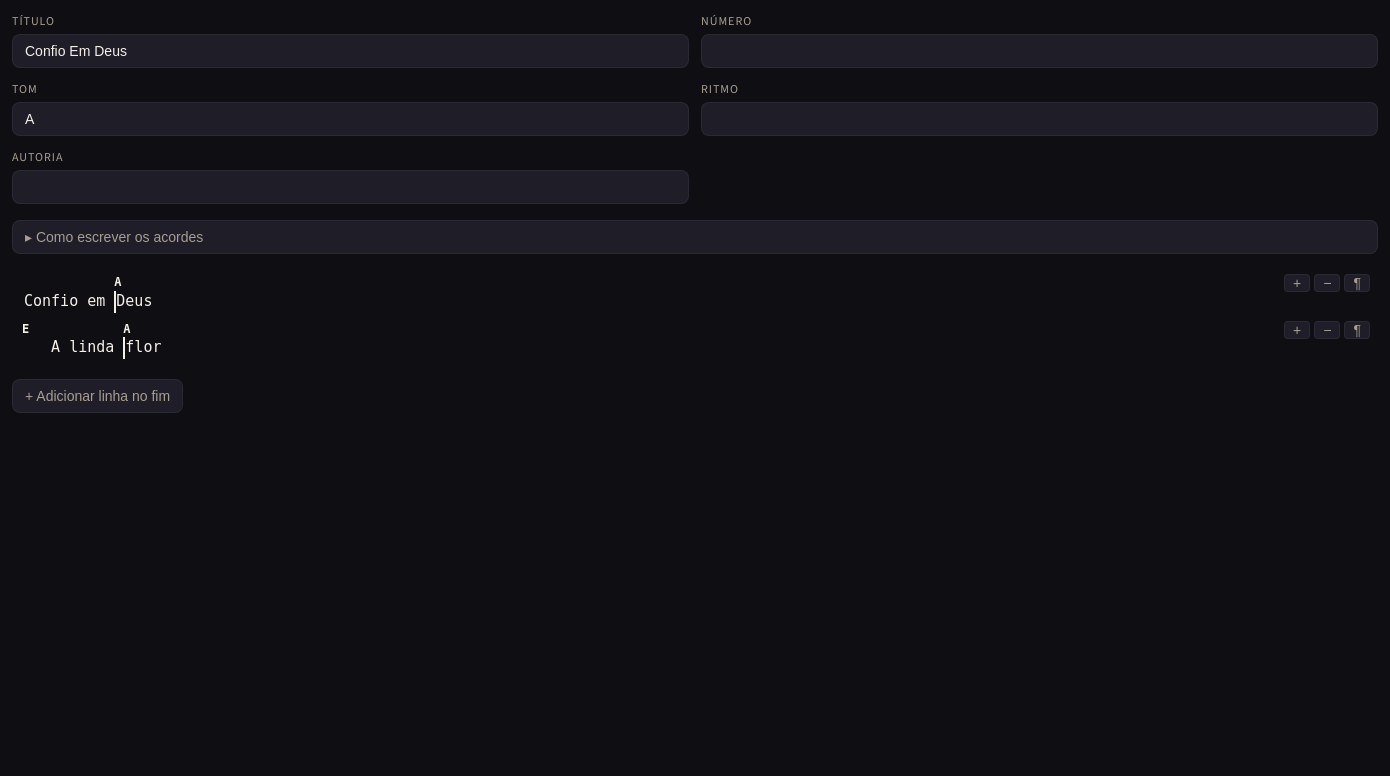
Test: inserir símbolo do painel de dicas › substitui a seleção, em vez de empurrá-la para o lado
The width and height of the screenshot is (1390, 776).
Step 1. Click the text "Confio em" → (68,302), box x1=22 y1=291 x2=114 y2=313
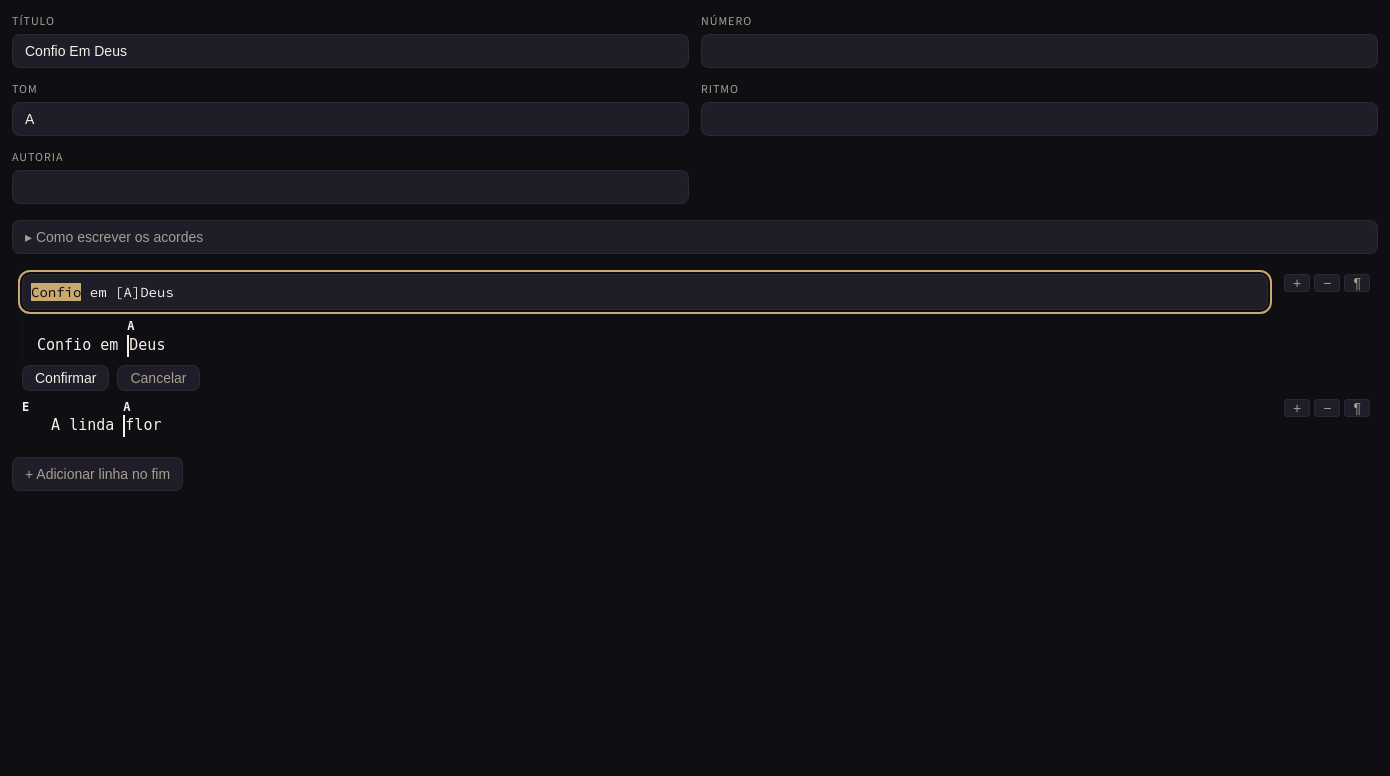
Step 2. Click the button "▸ Como escrever os acordes" → (118,237), box x1=13 y1=221 x2=1377 y2=253
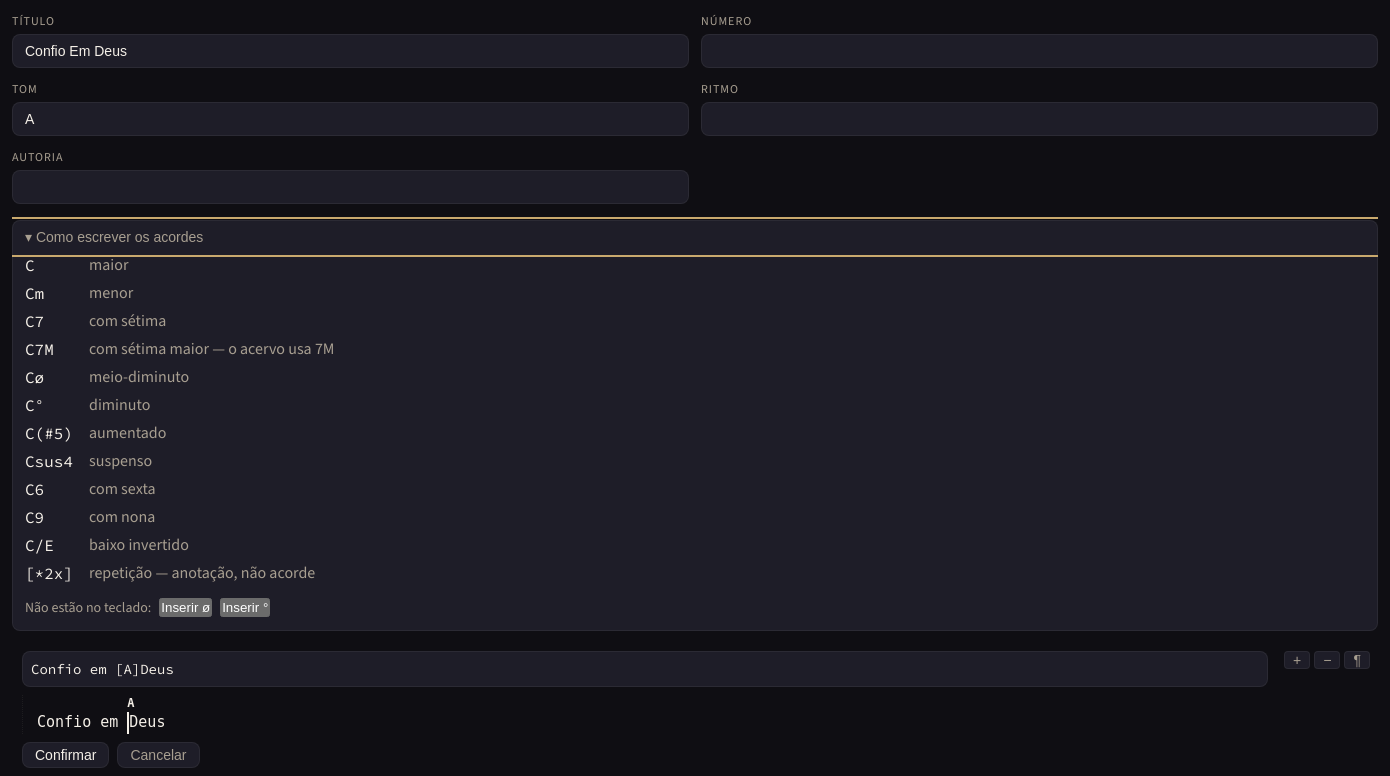
Step 3. Click the button "Inserir ø" → (186,608), box x1=159 y1=598 x2=212 y2=617
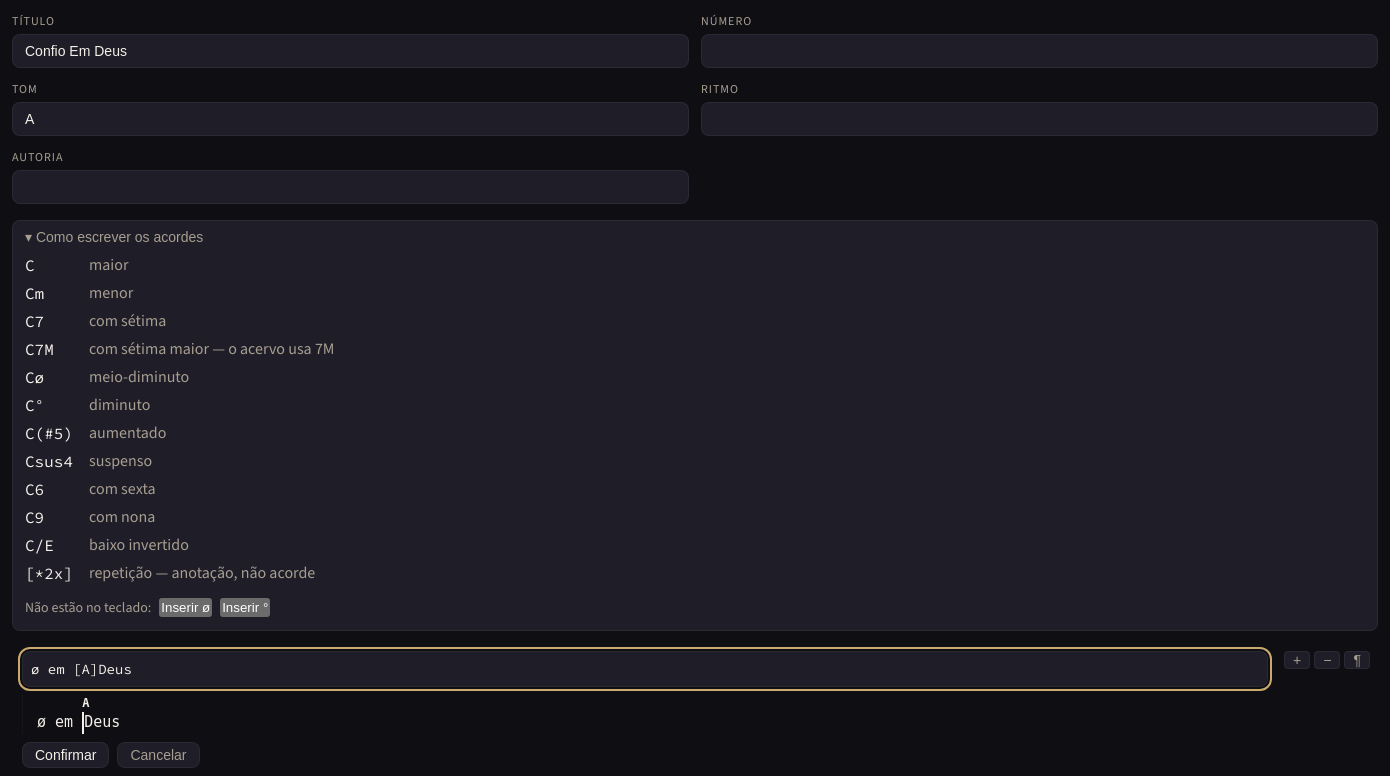
Expected: the field named "linha" holds "ø em [A]Deus", x1=22 y1=651 x2=1268 y2=687
